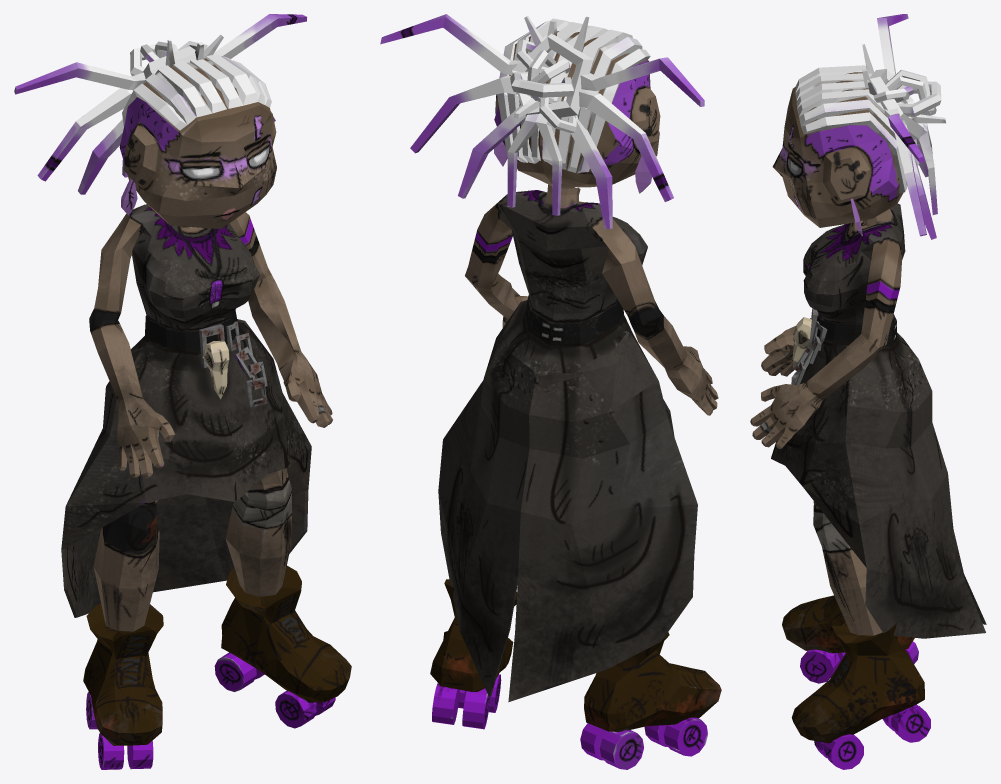
The model's file is bruja_000039.obj.
3 views of the same model, side by side, from view 1: azimuth 30°, elevation 25°; view 2: azimuth 150°, elevation 25°; view 3: azimuth 270°, elevation 25° (orthographic). The views are drawn at different scales.
Parts seen in each view (by area): view 1: Bruja_Plane.001; view 2: Bruja_Plane.001; view 3: Bruja_Plane.001.
Part boxes in pixels (bbox=[...]): Bruja_Plane.001: bbox=[14, 14, 351, 769]; Bruja_Plane.001: bbox=[380, 14, 721, 769]; Bruja_Plane.001: bbox=[750, 14, 986, 769].
Size of the model in its own units: 7.47 by 16.64 by 5.39.
